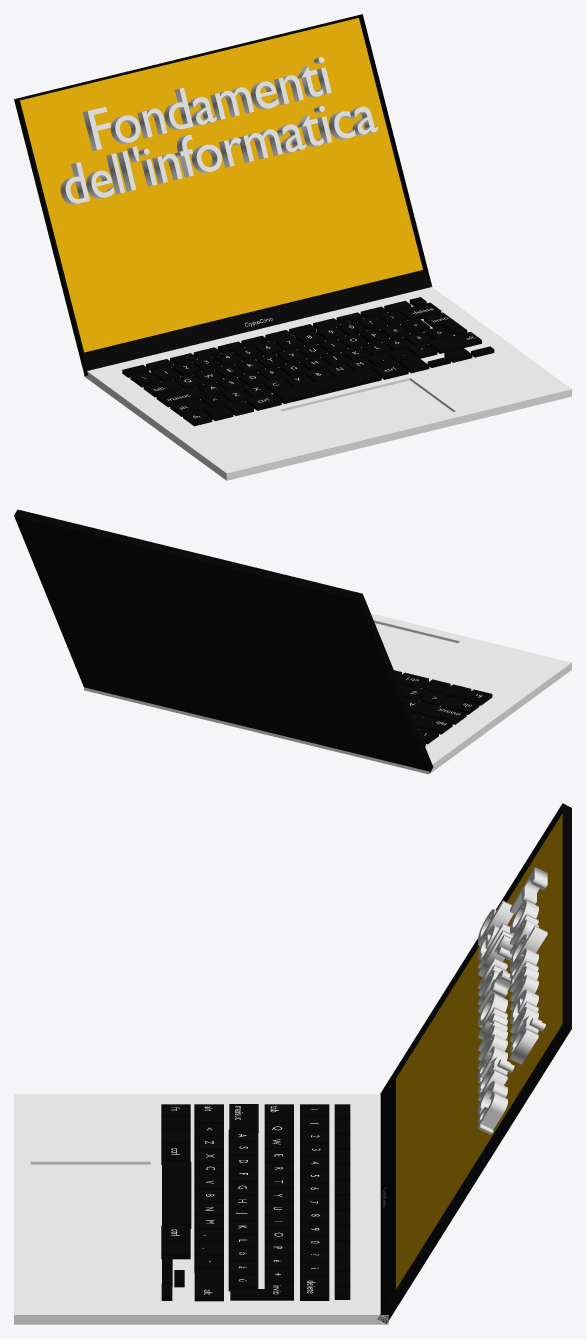
Rendered from fondamenti.glb.
The picture shows the model from 3 angles, top to bottom: view 1: azimuth 30°, elevation 25°; view 2: azimuth 150°, elevation 25°; view 3: azimuth 270°, elevation 25°; orthographic projection. The views are drawn at different scales.
Parts seen in each view (by area): view 1: Cube.073, Cube, Text.001, Cube.074, Text, Cube.001, Cube.072, Cube.123; view 2: Cube.001, Cube, Cube.065, Cube.064, Cube.066, Cube.071; view 3: Cube, Cube.073, Cube.001, Text.001, Text, Cube.074, Cube.072, Cube.123, Cube.065, Cube.027.
Part boxes in pixels (x1=…): Cube.073: x1=20, y1=18, x2=422, y2=352; Cube: x1=84, y1=286, x2=571, y2=480; Text.001: x1=60, y1=106, x2=378, y2=204; Cube.074: x1=82, y1=269, x2=431, y2=370; Text: x1=83, y1=57, x2=331, y2=150; Cube.001: x1=14, y1=14, x2=432, y2=375; Cube.072: x1=272, y1=368, x2=381, y2=403; Cube.123: x1=428, y1=332, x2=481, y2=353; Cube.001: x1=14, y1=509, x2=433, y2=772; Cube: x1=84, y1=613, x2=571, y2=774; Cube.065: x1=417, y1=703, x2=466, y2=724; Cube.064: x1=440, y1=696, x2=479, y2=714; Cube.066: x1=415, y1=716, x2=452, y2=734; Cube.071: x1=397, y1=672, x2=428, y2=688; Cube: x1=14, y1=1094, x2=388, y2=1324; Cube.073: x1=396, y1=813, x2=562, y2=1288; Cube.001: x1=377, y1=803, x2=571, y2=1323; Text.001: x1=477, y1=900, x2=514, y2=1134; Text: x1=509, y1=867, x2=547, y2=1064; Cube.074: x1=380, y1=1077, x2=396, y2=1313; Cube.072: x1=162, y1=1161, x2=191, y2=1228; Cube.123: x1=194, y1=1269, x2=223, y2=1301; Cube.065: x1=229, y1=1104, x2=258, y2=1132; Cube.027: x1=300, y1=1276, x2=329, y2=1300.
Size of the model in its own units: 6.79 by 4.31 by 7.25.
